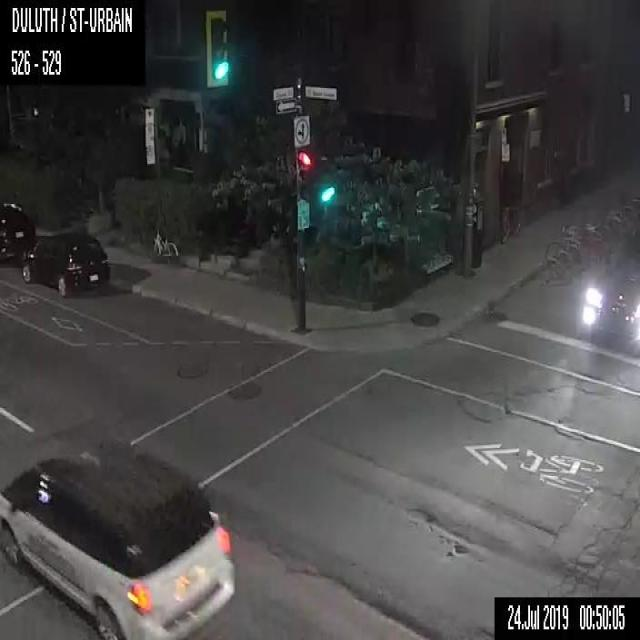vehicle: (0, 441, 235, 638), (24, 232, 109, 297), (583, 258, 639, 342), (0, 202, 38, 262)
